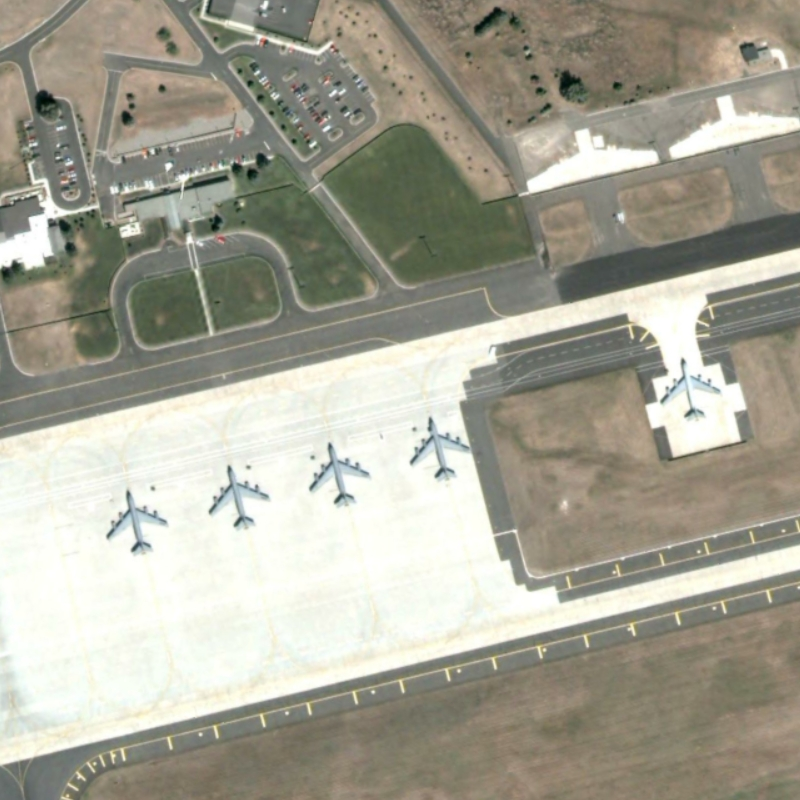A14: (656, 345, 733, 427), (406, 413, 482, 487), (204, 460, 277, 537), (304, 440, 375, 517), (103, 483, 177, 556)
